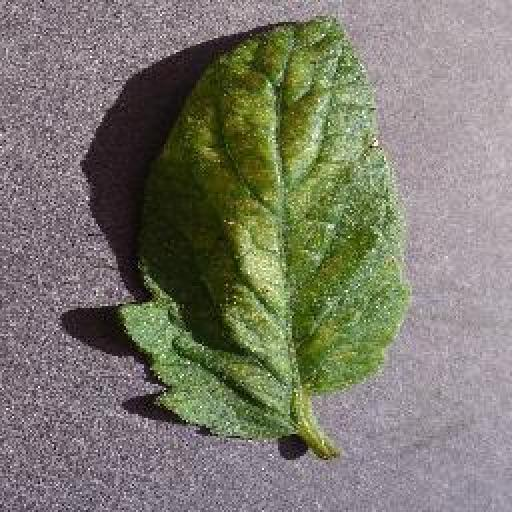disease_tomato: (115, 13, 405, 440)
